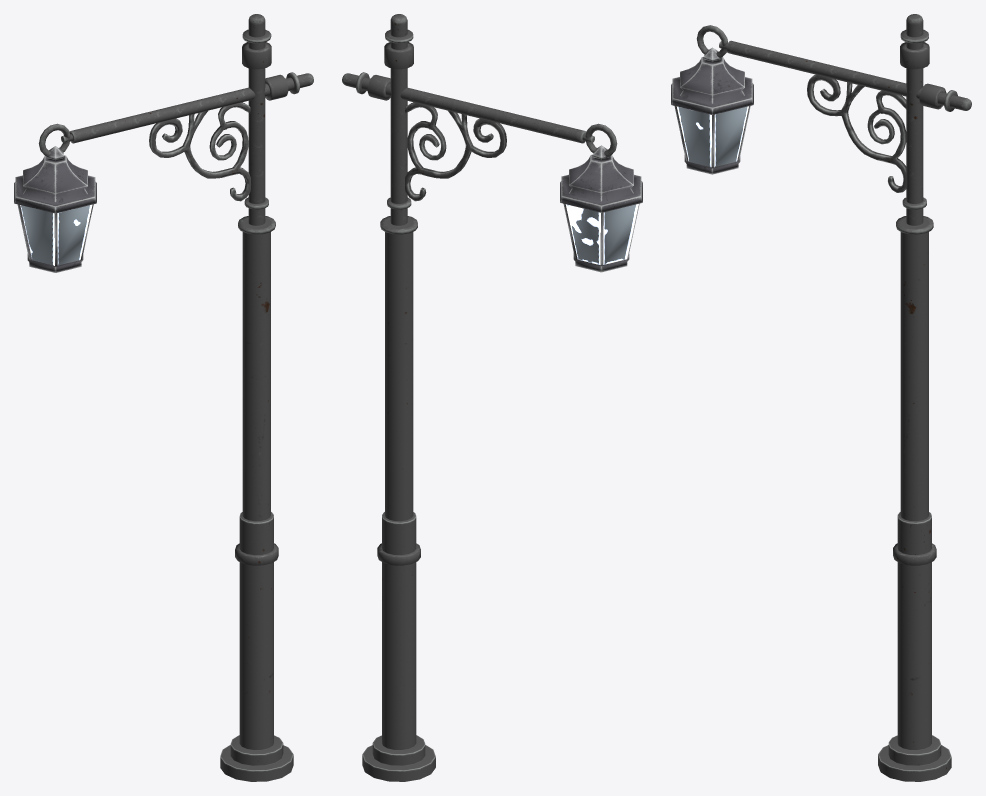
File: pole_single_02.fbx
The picture shows the model from 3 angles, left to right: view 1: azimuth 30°, elevation 25°; view 2: azimuth 150°, elevation 25°; view 3: azimuth 330°, elevation 25°; orthographic projection.
Parts seen in each view (by area): view 1: pole_single_02, case_top_lamp02, glass_lamp02; view 2: pole_single_02, case_top_lamp02, glass_lamp02; view 3: pole_single_02, case_top_lamp02, glass_lamp02.
Boxes of the visible parts, x1,y1,x2,y2 form: pole_single_02: (38, 14, 313, 781); case_top_lamp02: (14, 146, 96, 213); glass_lamp02: (20, 204, 92, 265); pole_single_02: (342, 14, 617, 781); case_top_lamp02: (560, 145, 642, 212); glass_lamp02: (565, 204, 638, 264); pole_single_02: (696, 14, 971, 781); case_top_lamp02: (671, 47, 753, 114); glass_lamp02: (676, 106, 748, 167).
Bounding box in the file's own units: 2.25 × 0.5395 × 5.4.
Materials: 2 (2 with a texture image).
